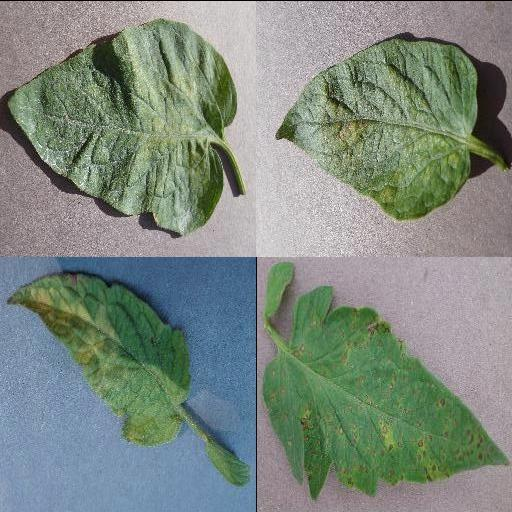Leaf Mold: (5, 271, 191, 443)
Septoria: (261, 285, 509, 500)
Spider Mites: (7, 18, 237, 234), (275, 37, 477, 219)
